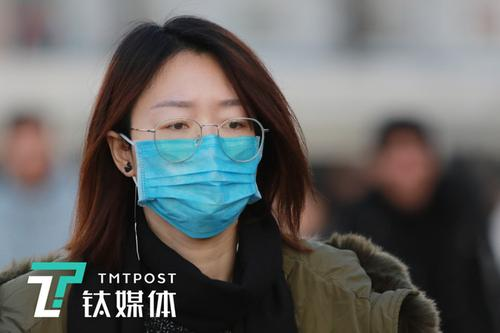yes_mask: (70, 13, 316, 250)
